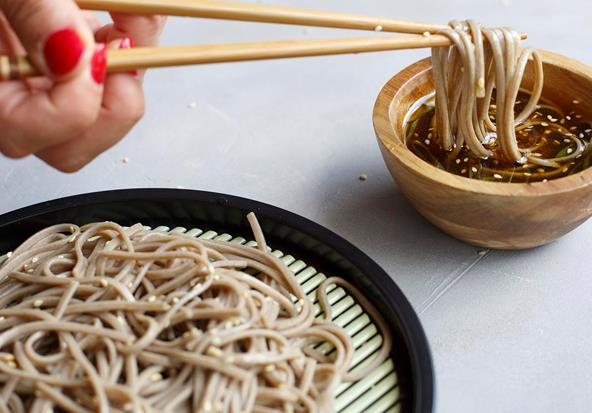Soba: (3, 212, 358, 413), (430, 18, 574, 182)
